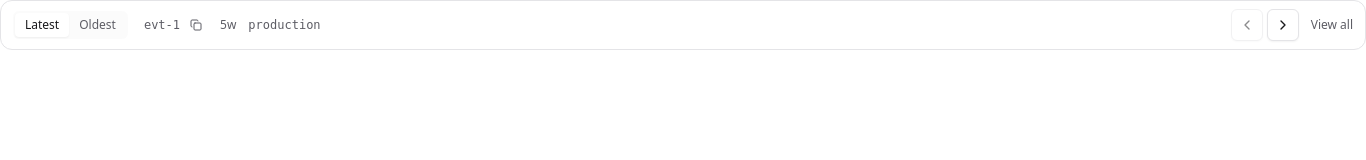
EventNavigator filter forwarding › carries the same filters, plus the cursor, when paging to a further event
The image size is (1366, 160).
Expected: the text "evt-1" is shown, [144, 17, 180, 33]
Click the button named "Older event".
click(1283, 25)  # box [1267, 9, 1299, 41]
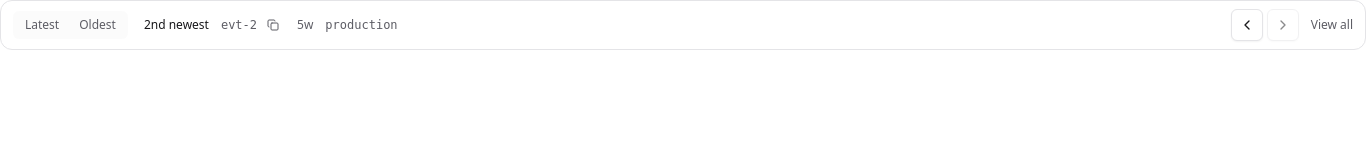
Now the text "evt-2" is shown, box [221, 17, 257, 33]
